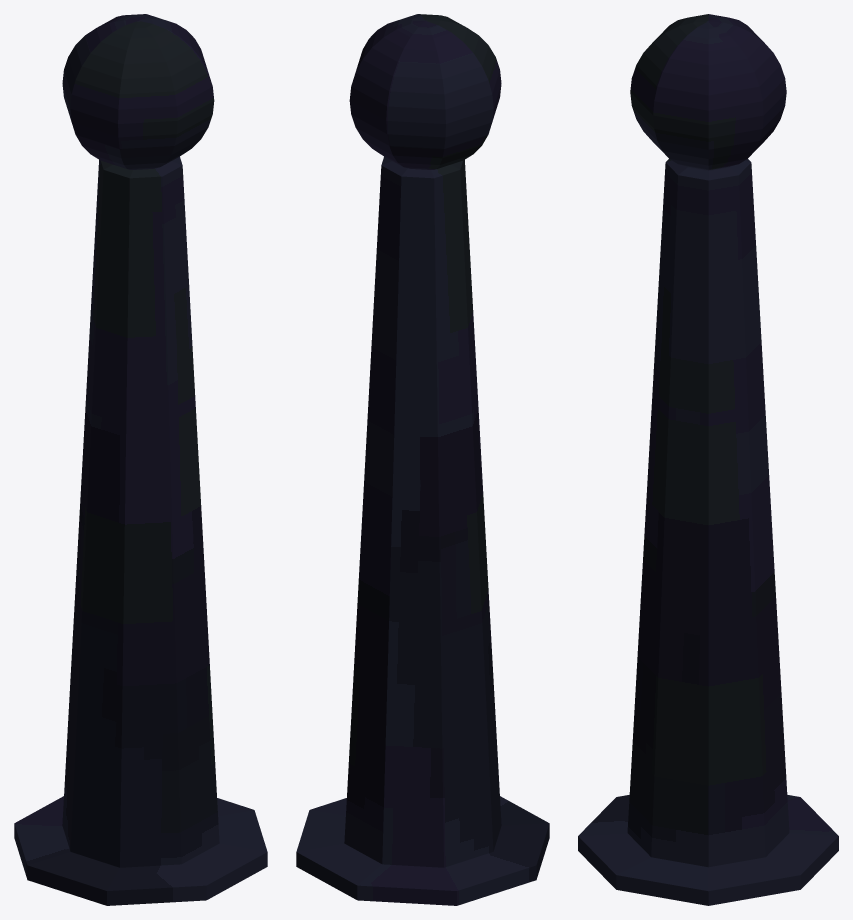
File: Poteau 2.fbx
3 renders of one model, left to right at view 1: azimuth 30°, elevation 25°; view 2: azimuth 150°, elevation 25°; view 3: azimuth 270°, elevation 25°, orthographic.
Parts seen in each view (by area): view 1: Cylinder.003; view 2: Cylinder.003; view 3: Cylinder.003.
Boxes of the visible parts, x1,y1,x2,y2 form: Cylinder.003: (14, 14, 267, 905); Cylinder.003: (296, 14, 549, 905); Cylinder.003: (578, 14, 838, 905).
Size of the model in its own units: 33.68 by 118 by 33.68.
